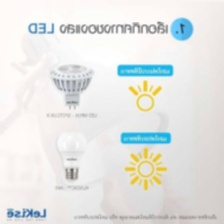light_bulb: (46, 58, 99, 111), (54, 126, 90, 185)
